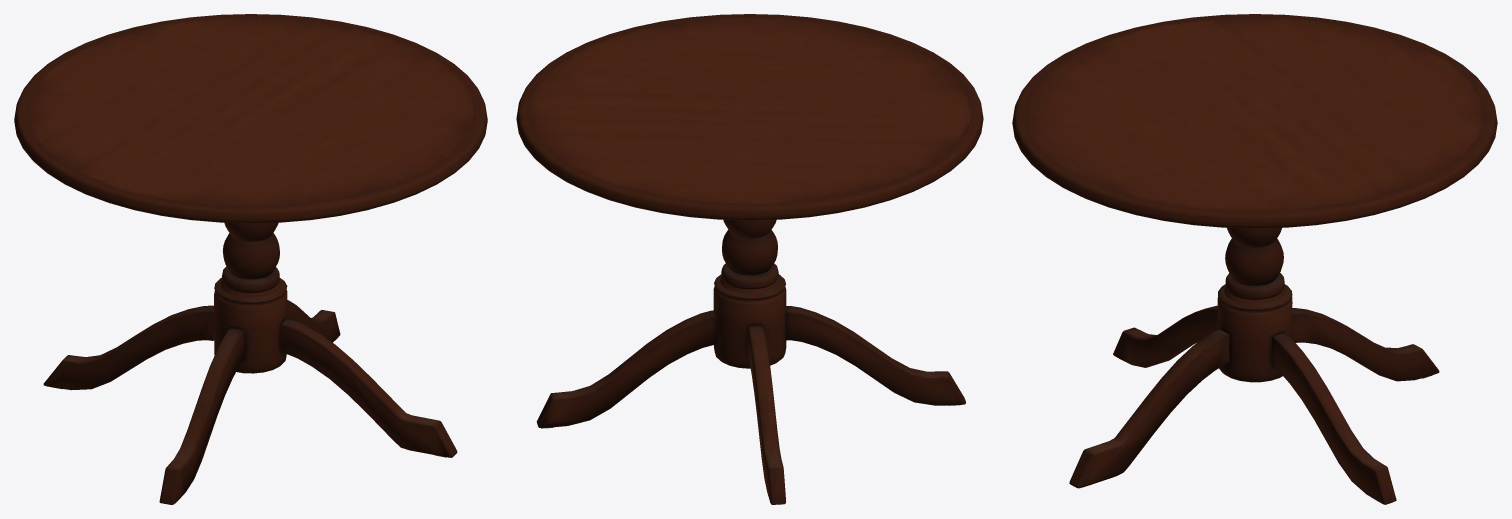
File: table.glb
3 views of the same model, side by side, from view 1: azimuth 30°, elevation 25°; view 2: azimuth 150°, elevation 25°; view 3: azimuth 270°, elevation 25° (orthographic). The views are drawn at different scales.
Visible parts, largest first — view 1: round_wooden_table_01; view 2: round_wooden_table_01; view 3: round_wooden_table_01.
Boxes of the visible parts, x1,y1,x2,y2 form: round_wooden_table_01: (14, 14, 487, 504); round_wooden_table_01: (516, 14, 983, 504); round_wooden_table_01: (1012, 14, 1497, 504).
Size of the model in its own units: 1.4 by 1.01 by 1.4.
Materials: 1 (1 with a texture image).
